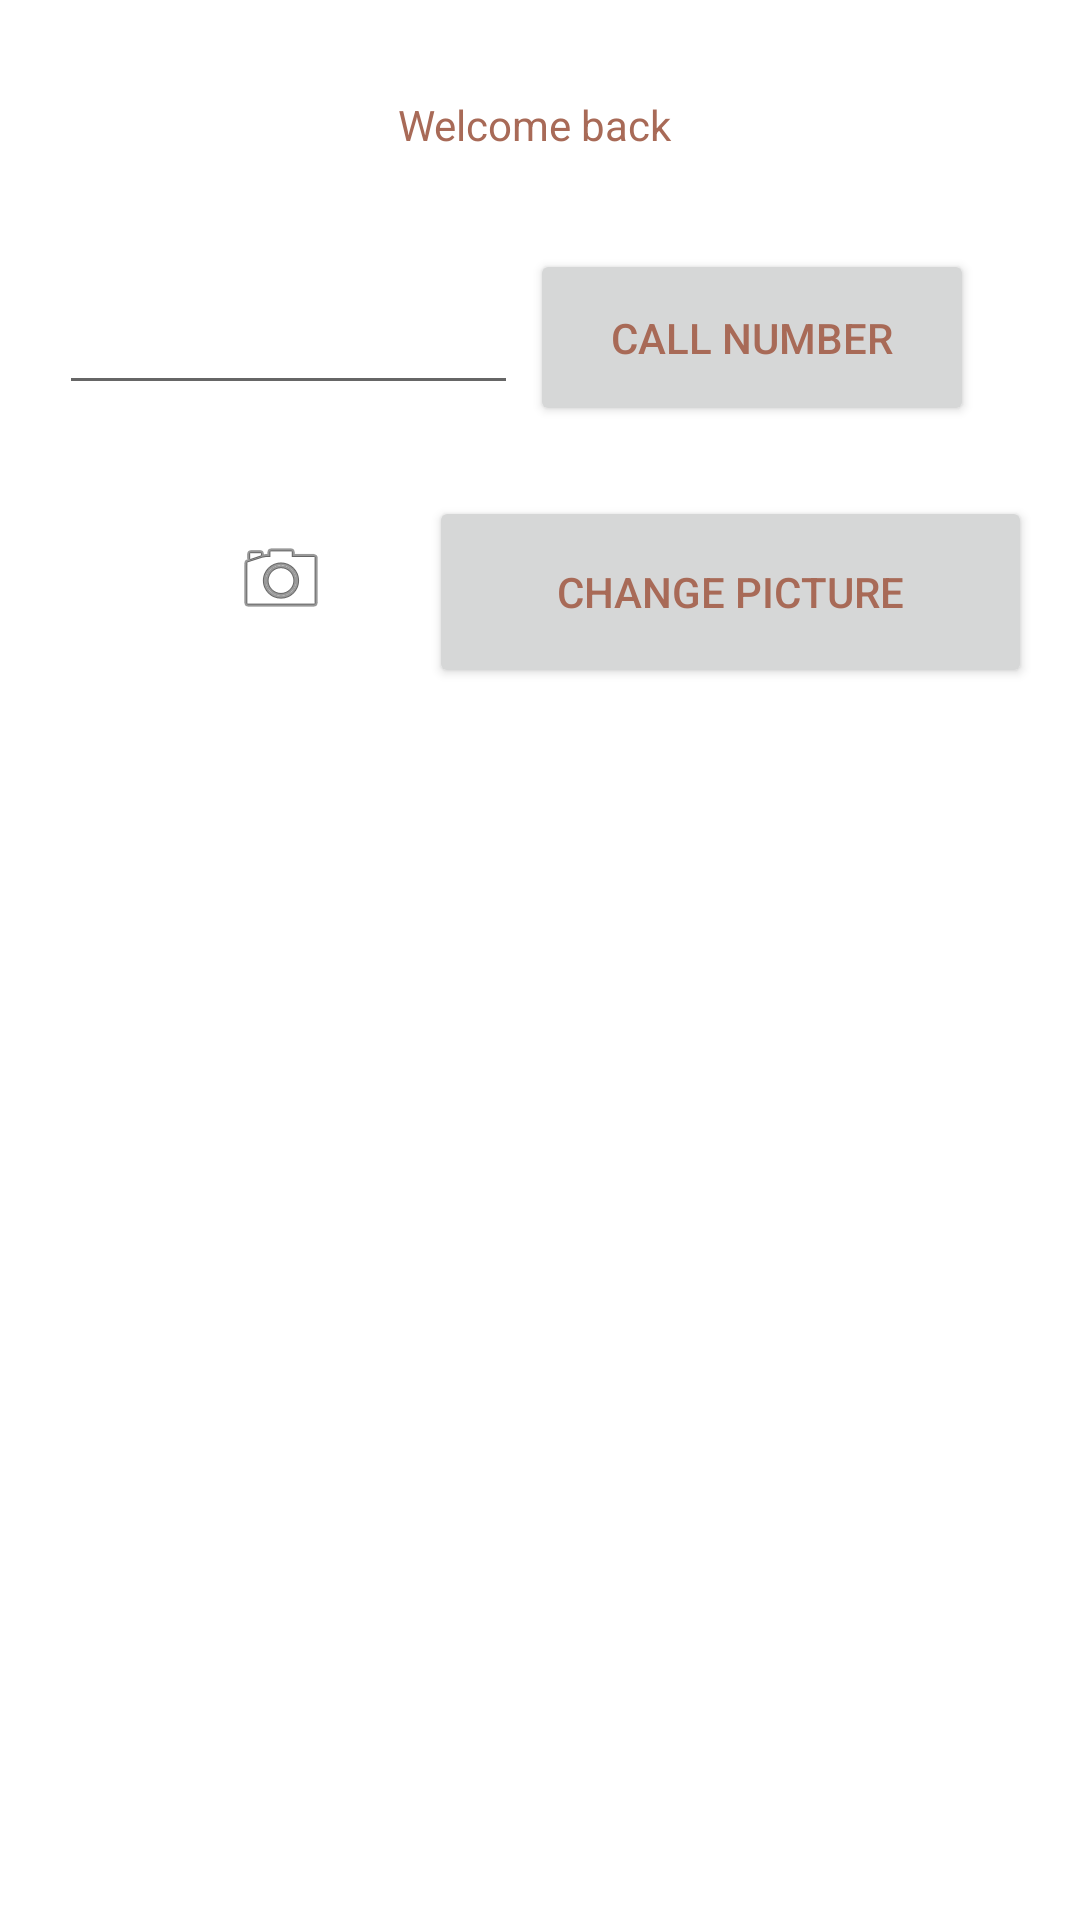

Named icons in this screenshot (1080x1920) and their bounding boxes, [x1,y1,x2,y2]:
camera: [244,548,318,607]
